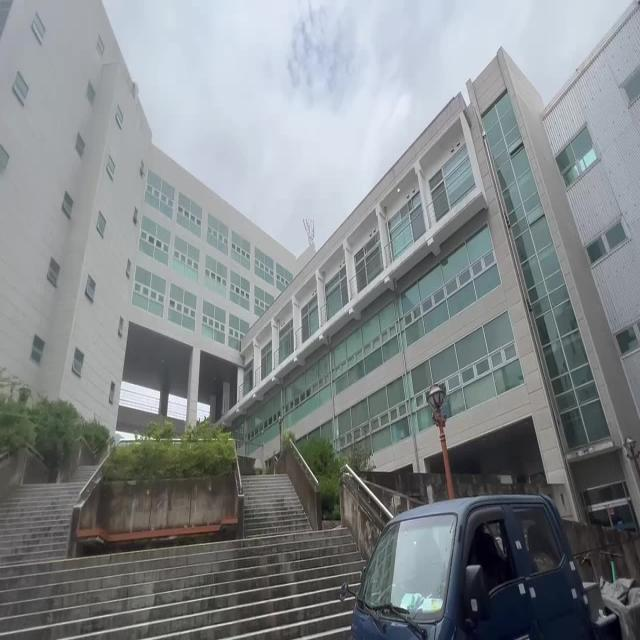building: (19, 44, 633, 436)
